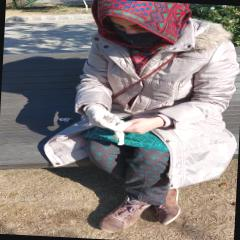gloved: (84, 104, 118, 130)
not-gloved: (117, 114, 165, 136)
